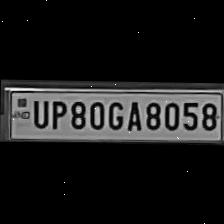0: (160, 98, 180, 130), (86, 97, 106, 128)
5: (178, 98, 198, 131)
8: (66, 98, 86, 130), (142, 98, 162, 130), (198, 99, 218, 130)
A: (122, 97, 142, 130)
G: (104, 96, 124, 130)
P: (46, 97, 66, 129)
U: (28, 96, 48, 127)
